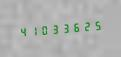five: (94, 17, 104, 33)
four: (17, 23, 27, 39)
one: (28, 22, 38, 38)
six: (72, 18, 82, 35)
three: (61, 19, 71, 36), (50, 20, 60, 36)
two: (83, 18, 93, 34)
zero: (39, 21, 49, 37)
